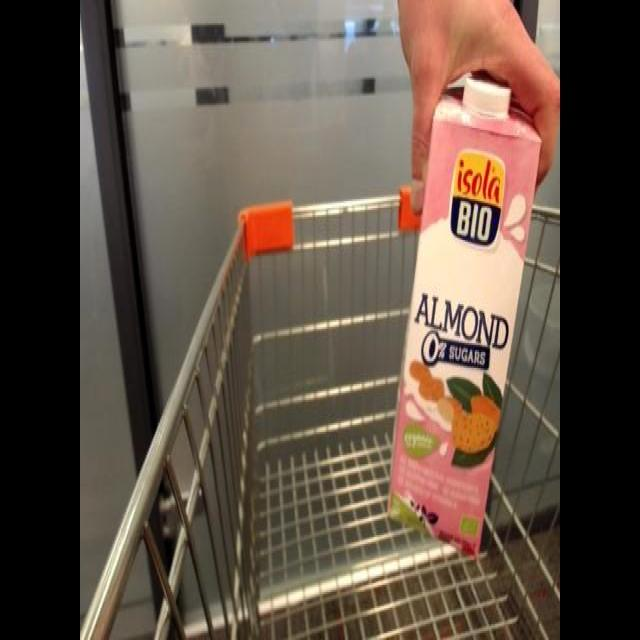Almond Milk: (382, 69, 544, 571)
